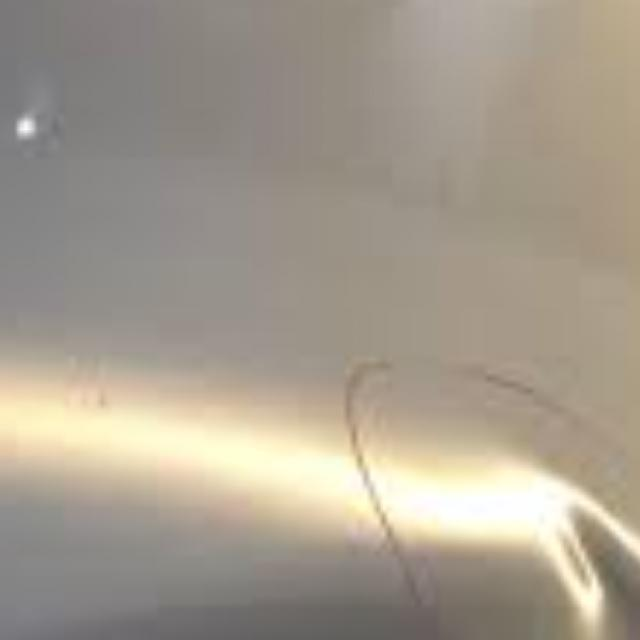dents: (1, 69, 99, 198)
